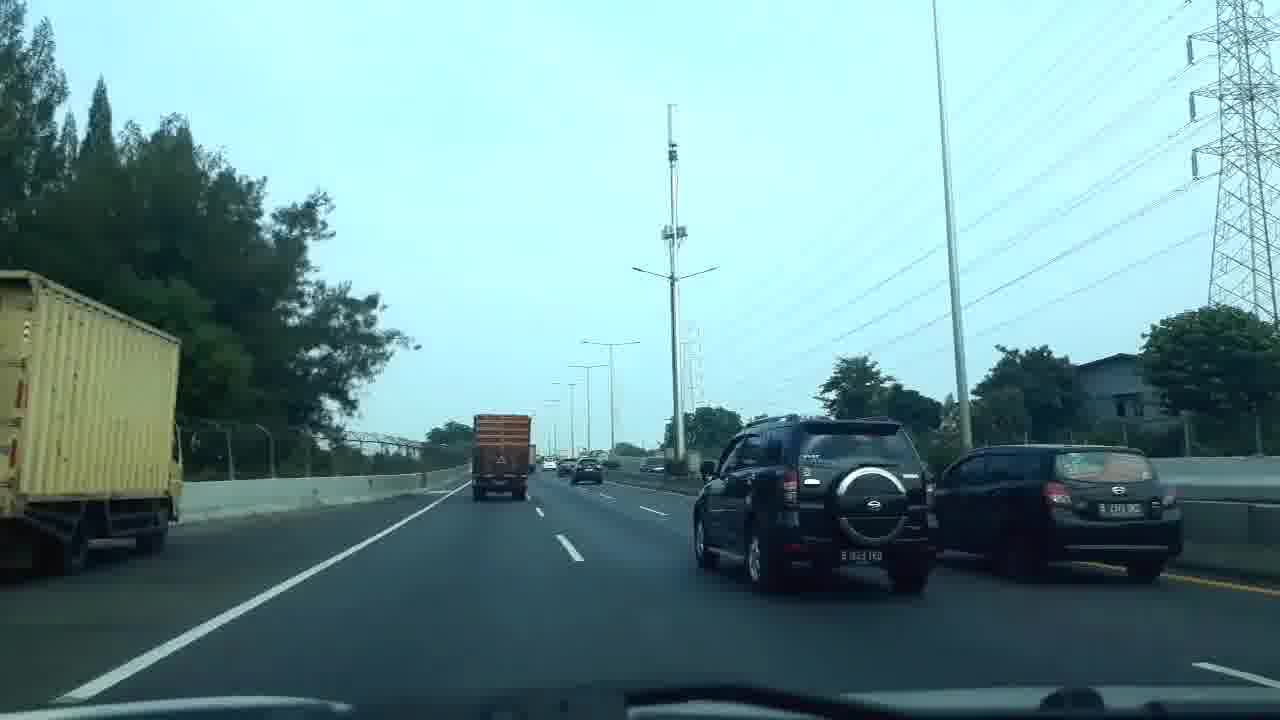plate_positive: (1096, 502, 1146, 518), (838, 549, 883, 566)
